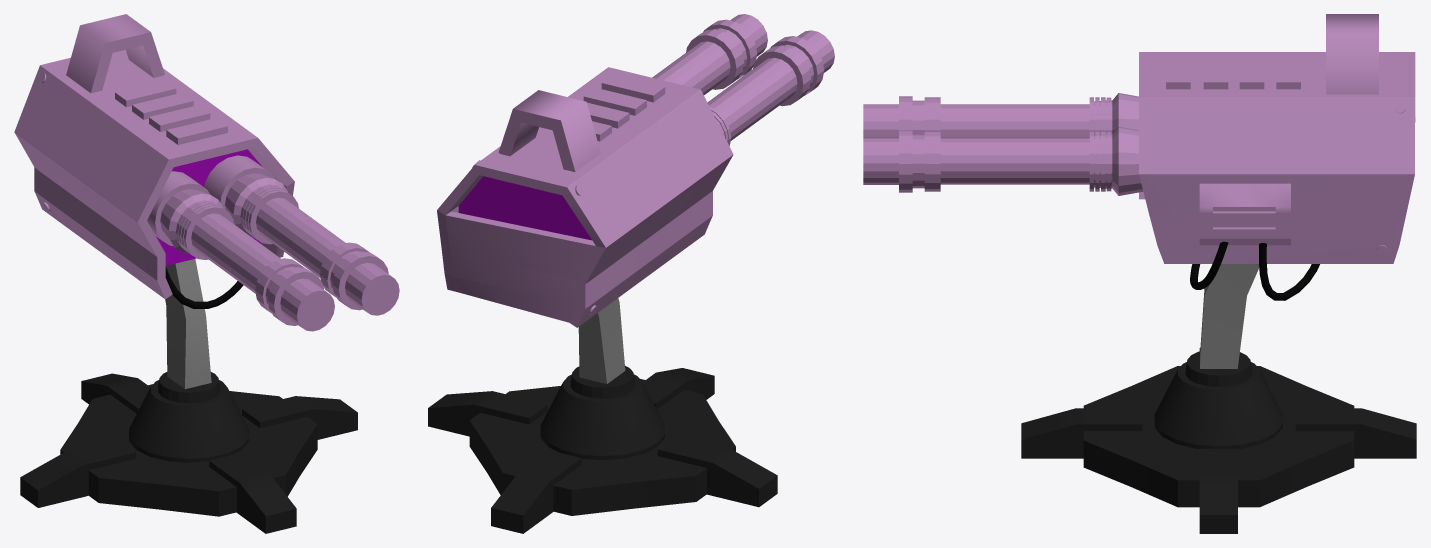
The model's file is TMejora.fbx.
3 renders of one model, left to right at view 1: azimuth 30°, elevation 25°; view 2: azimuth 150°, elevation 25°; view 3: azimuth 270°, elevation 25°, orthographic. The views are drawn at different scales.
Visible parts, largest first — view 1: Object013, FINAL, Object015, Object016; view 2: Object013, FINAL, Object016, Object015; view 3: Object013, FINAL, Object015, Object016.
Part boxes in pixels (bbox=[...]): Object013: bbox=[14, 14, 294, 389]; FINAL: bbox=[20, 372, 357, 533]; Object015: bbox=[204, 155, 399, 315]; Object016: bbox=[147, 171, 334, 331]; Object013: bbox=[437, 67, 733, 383]; FINAL: bbox=[428, 366, 777, 533]; Object016: bbox=[707, 30, 834, 145]; Object015: bbox=[652, 14, 767, 94]; Object013: bbox=[1139, 14, 1415, 368]; FINAL: bbox=[1021, 348, 1416, 533]; Object015: bbox=[863, 126, 1144, 197]; Object016: bbox=[863, 93, 1138, 137].
Size of the model in its own units: 35.82 by 50.11 by 41.85.
